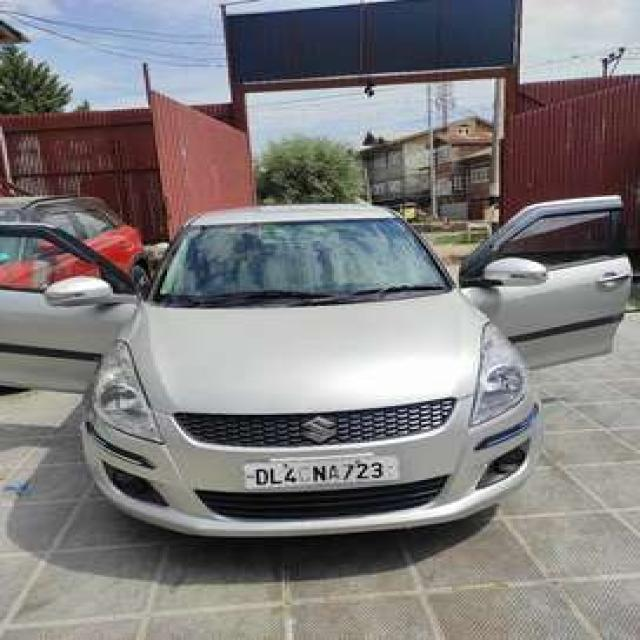licenseplate: (242, 454, 398, 488)
